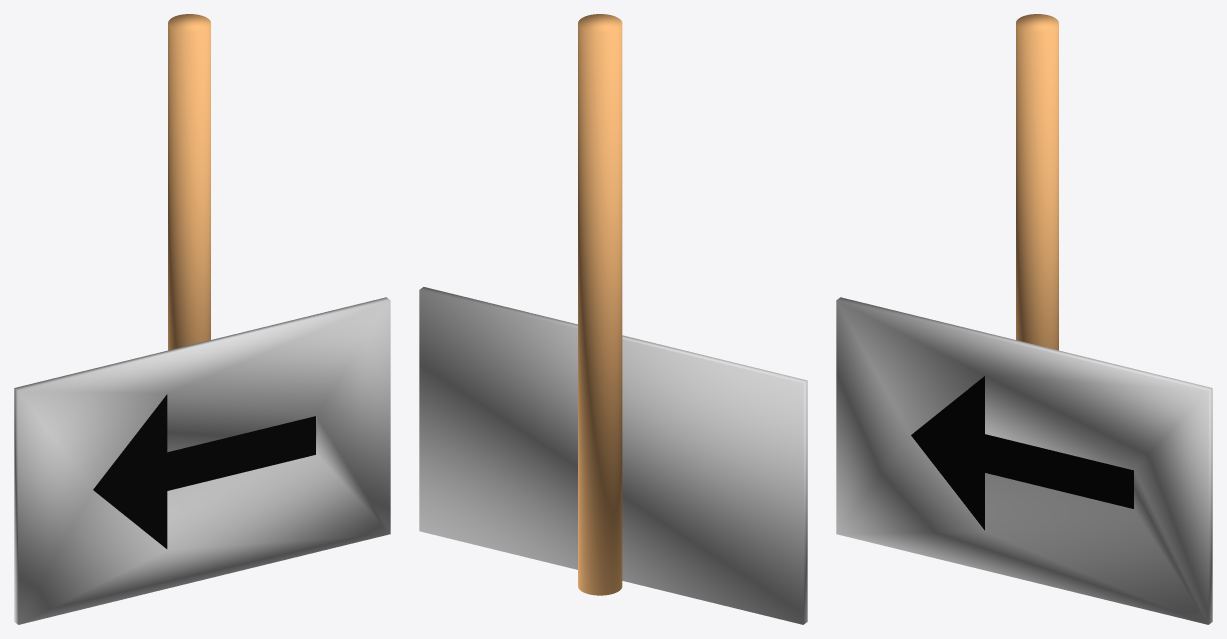
File: arrow_blender.dae
The picture shows the model from 3 angles, left to right: view 1: azimuth 30°, elevation 25°; view 2: azimuth 150°, elevation 25°; view 3: azimuth 330°, elevation 25°; orthographic projection. The views are drawn at different scales.
Parts seen in each view (by area): view 1: node_16eac41b_cb2f_4d9d_aa4c_ac223b59d83c_mesh0, node_16eac41b_cb2f_4d9d_aa4c_ac223b59d83c_mesh2, node_16eac41b_cb2f_4d9d_aa4c_ac223b59d83c_mesh1; view 2: node_16eac41b_cb2f_4d9d_aa4c_ac223b59d83c_mesh0, node_16eac41b_cb2f_4d9d_aa4c_ac223b59d83c_mesh2; view 3: node_16eac41b_cb2f_4d9d_aa4c_ac223b59d83c_mesh0, node_16eac41b_cb2f_4d9d_aa4c_ac223b59d83c_mesh2, node_16eac41b_cb2f_4d9d_aa4c_ac223b59d83c_mesh1.
Part boxes in pixels (box(x1,y1,x2,y2)): node_16eac41b_cb2f_4d9d_aa4c_ac223b59d83c_mesh0: box(14, 297, 390, 624); node_16eac41b_cb2f_4d9d_aa4c_ac223b59d83c_mesh2: box(168, 14, 210, 350); node_16eac41b_cb2f_4d9d_aa4c_ac223b59d83c_mesh1: box(93, 394, 315, 548); node_16eac41b_cb2f_4d9d_aa4c_ac223b59d83c_mesh0: box(419, 287, 807, 624); node_16eac41b_cb2f_4d9d_aa4c_ac223b59d83c_mesh2: box(578, 14, 622, 595); node_16eac41b_cb2f_4d9d_aa4c_ac223b59d83c_mesh0: box(836, 297, 1212, 624); node_16eac41b_cb2f_4d9d_aa4c_ac223b59d83c_mesh2: box(1016, 14, 1058, 350); node_16eac41b_cb2f_4d9d_aa4c_ac223b59d83c_mesh1: box(911, 376, 1133, 530).
Bounding box in the file's own units: 500 × 59.99 × 700.
